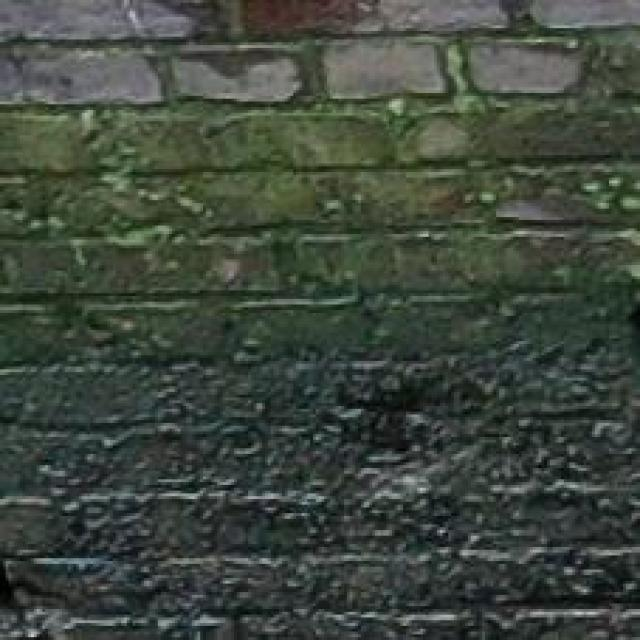Crack: (12, 226, 640, 532)
